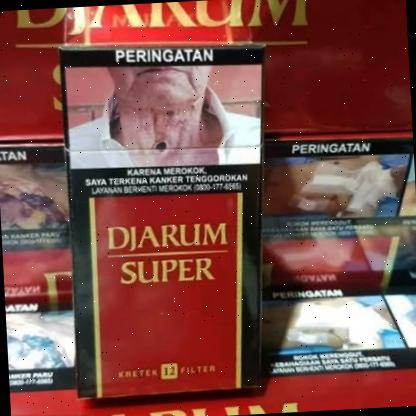bungkus rokok: (52, 31, 270, 405), (256, 117, 416, 307)
